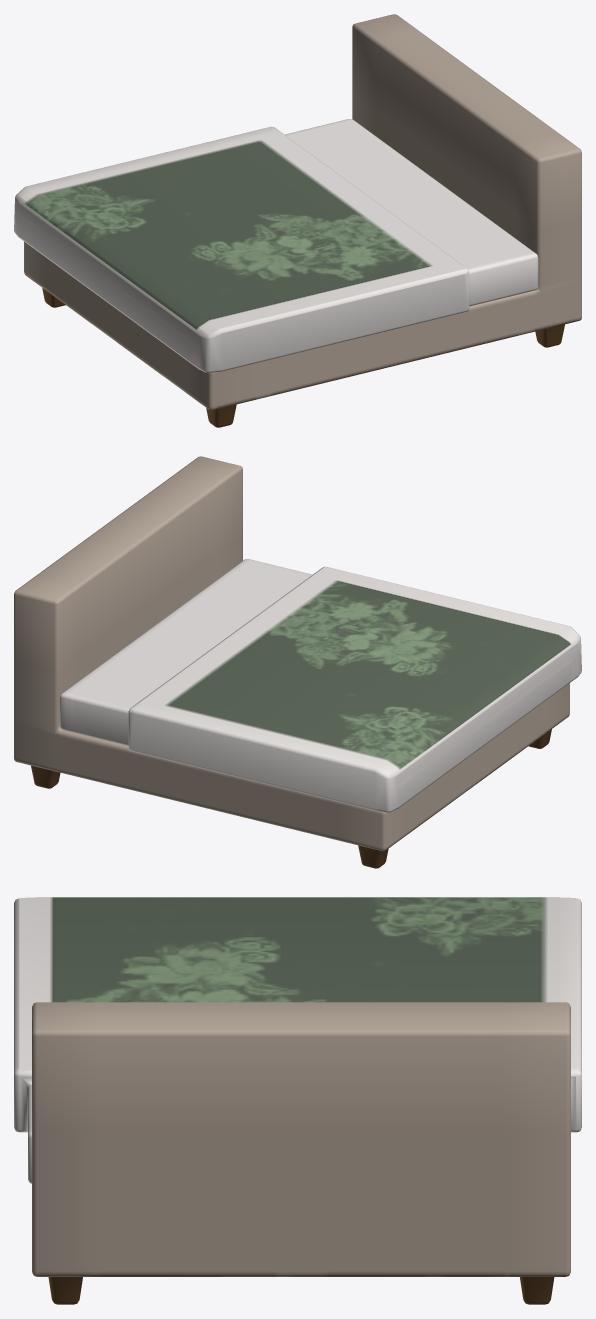
Rendered from Bed.fbx.
3 views of the same model, one above another, from view 1: azimuth 30°, elevation 25°; view 2: azimuth 150°, elevation 25°; view 3: azimuth 270°, elevation 25° (orthographic). The views are drawn at different scales.
Parts seen in each view (by area): view 1: bad; view 2: bad; view 3: bad.
Part boxes in pixels (x1,y1,x2,y2): bad: (14, 14, 581, 427); bad: (14, 456, 581, 868); bad: (14, 897, 581, 1304).
Size of the model in its own units: 236 by 116 by 211.
